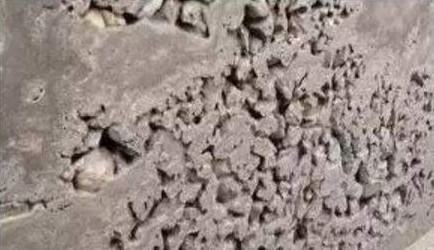Spalling: (1, 1, 434, 250)
